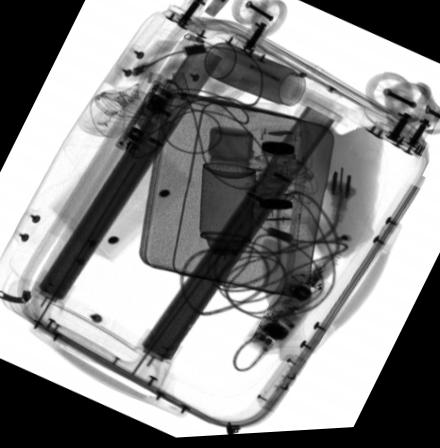Sprayer: (197, 164, 256, 275)
